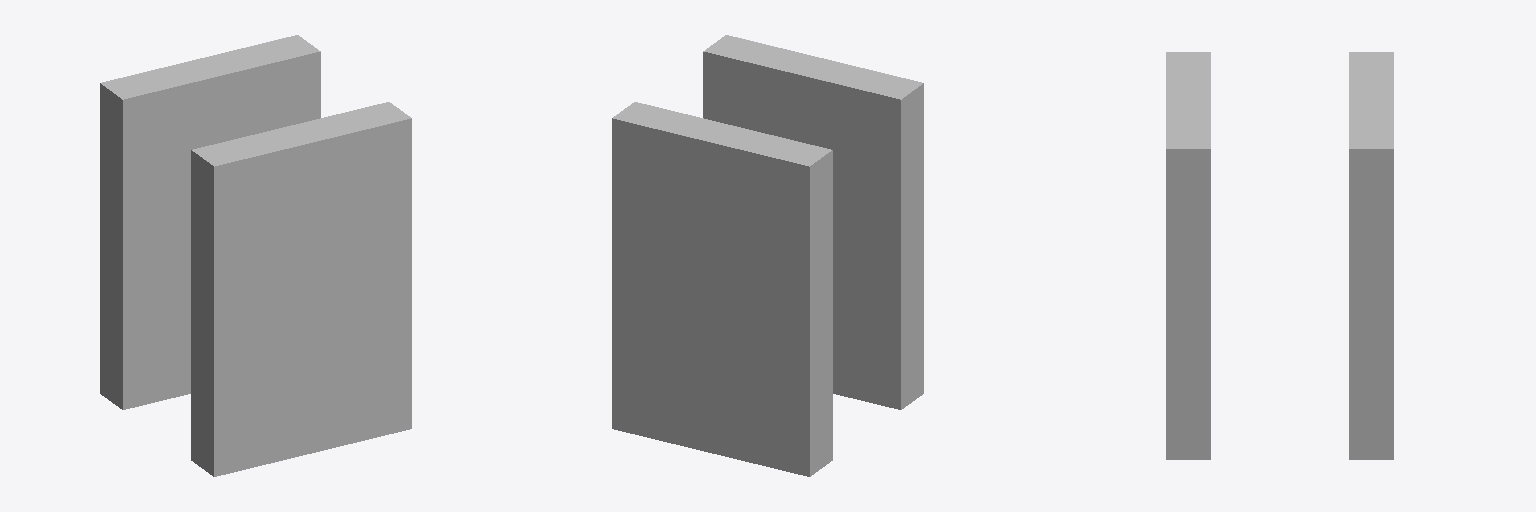
The model's file is mur deux opposes.obj.
3 views of the same model, side by side, from view 1: azimuth 30°, elevation 25°; view 2: azimuth 150°, elevation 25°; view 3: azimuth 270°, elevation 25° (orthographic).
Visible parts, largest first — view 1: Cube; view 2: Cube; view 3: Cube.
Boxes of the visible parts, x1,y1,x2,y2 form: Cube: [100, 35, 411, 476]; Cube: [612, 35, 923, 476]; Cube: [1166, 52, 1393, 459].
Bounding box in the file's own units: 2 × 3 × 2.